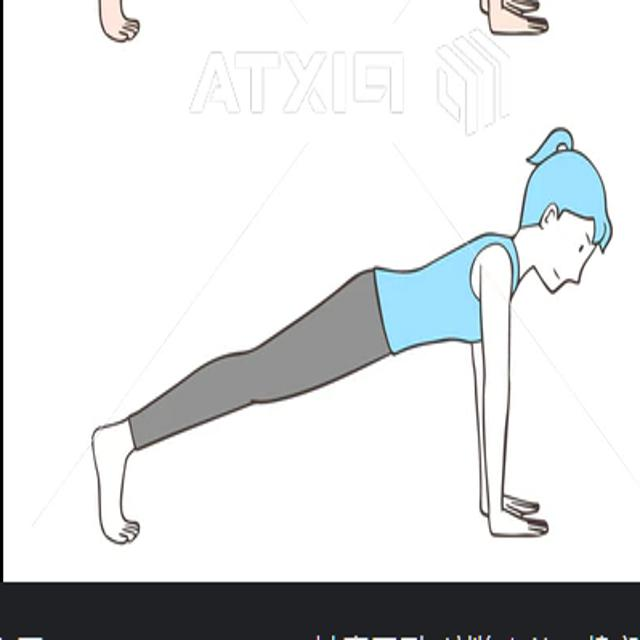Plank_Pose: (79, 120, 615, 551)
